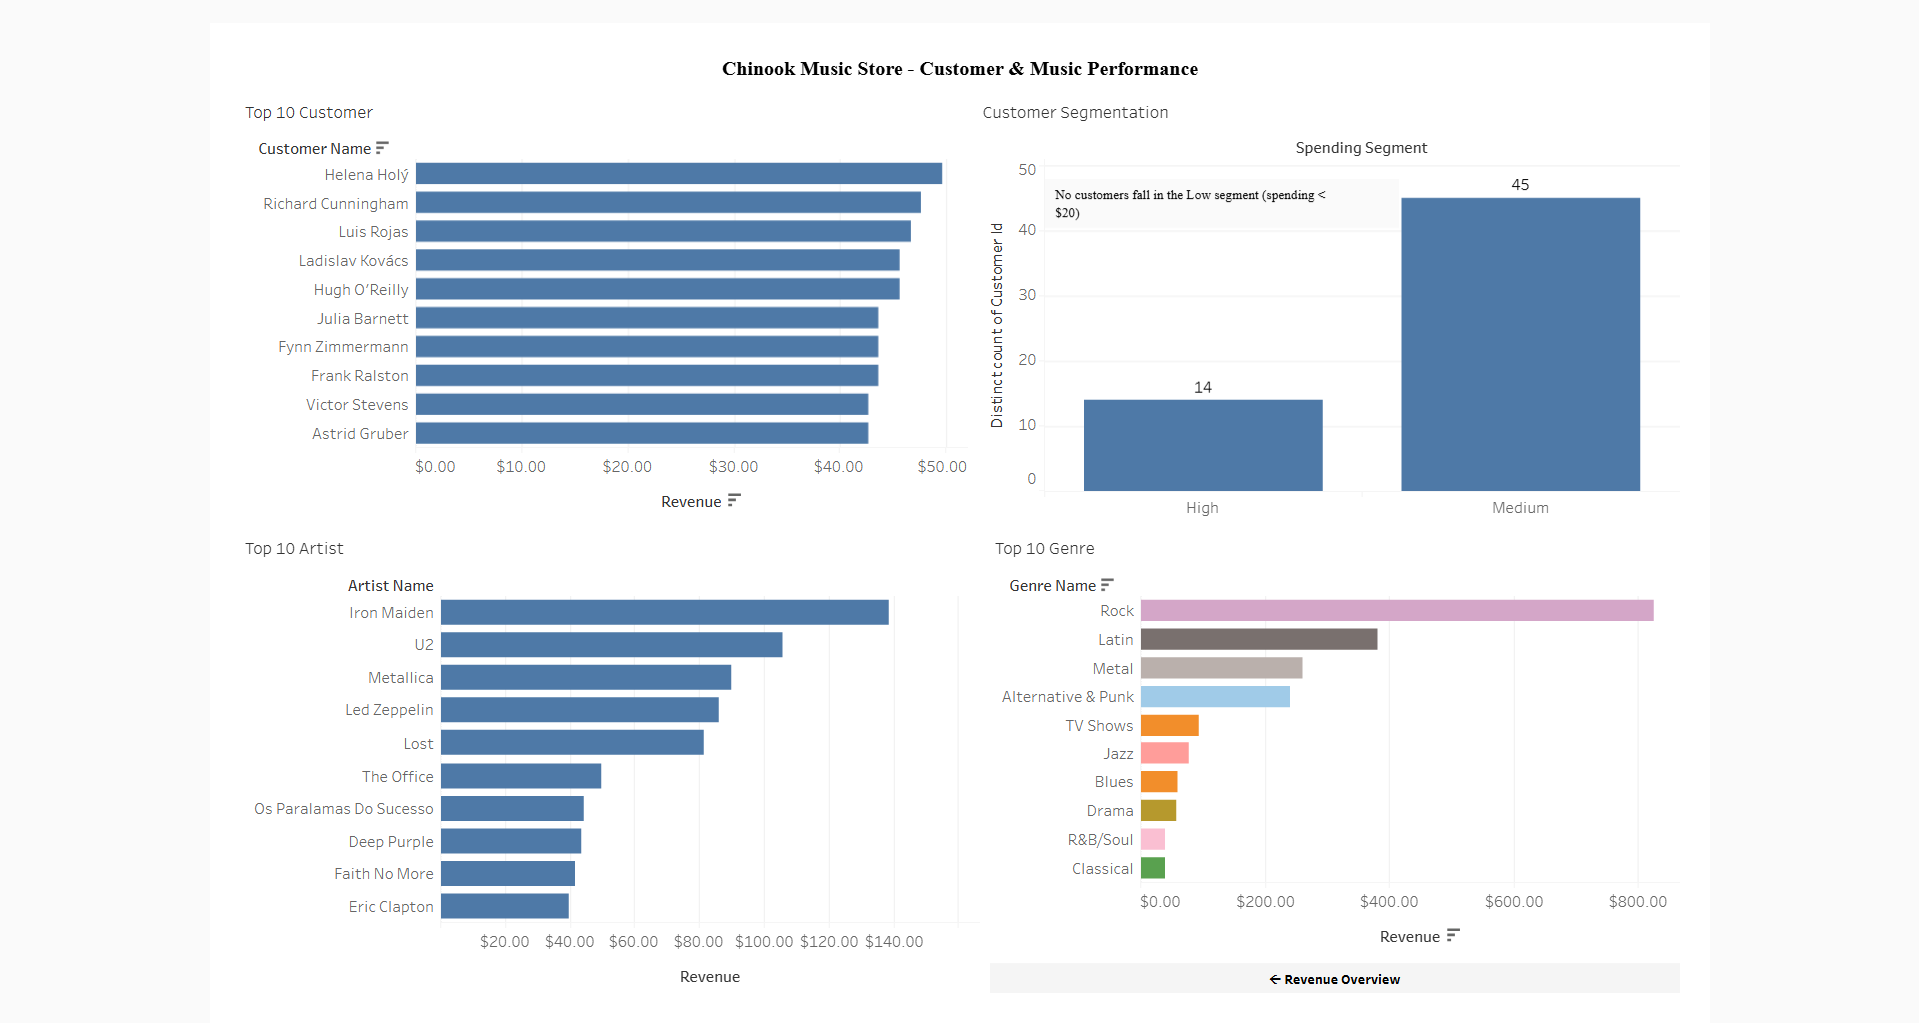

Layout of this report page (visuals, bound fields, positions):
{"tool":"tableau","page":{"name":"Customer & Music Performance","canvas":[1200,800],"ordinal":0},"visuals":[{"type":"text","box":[20,20,1160,30.9]},{"type":"worksheet","title":"Top 10 Customer","mark":"Automatic","rows":["Calculation_2069889970405380"],"cols":["revenue"],"box":[20,50.9,590,349.1]},{"type":"worksheet","title":"Customer Segmentation","mark":"Automatic","rows":["customer_id"],"cols":["Calculation_2069889965981698"],"box":[610,50.9,570,349.1]},{"type":"worksheet","title":"Top 10 Artist","mark":"Automatic","rows":["artist_name"],"cols":["revenue"],"box":[20,400,590,380]},{"type":"worksheet","title":"Top 10 Genre","mark":"Automatic","rows":["genre_name"],"cols":["revenue"],"box":[610,400,570,348]},{"type":"dashboard-object","box":[610,748,570,32]}]}

Visuals, with their boxes on the page's 1200x800 design canvas (x1, y1, x2, y2). These are canvas units, not pixel positions in the 1919x1023 screenshot, which may show the page scaled, cropped or inside an application window:
text: {"left": 20, "top": 20, "right": 1180, "bottom": 51}
"Top 10 Customer" worksheet: {"left": 20, "top": 51, "right": 610, "bottom": 400}
"Customer Segmentation" worksheet: {"left": 610, "top": 51, "right": 1180, "bottom": 400}
"Top 10 Artist" worksheet: {"left": 20, "top": 400, "right": 610, "bottom": 780}
"Top 10 Genre" worksheet: {"left": 610, "top": 400, "right": 1180, "bottom": 748}
dashboard-object: {"left": 610, "top": 748, "right": 1180, "bottom": 780}
